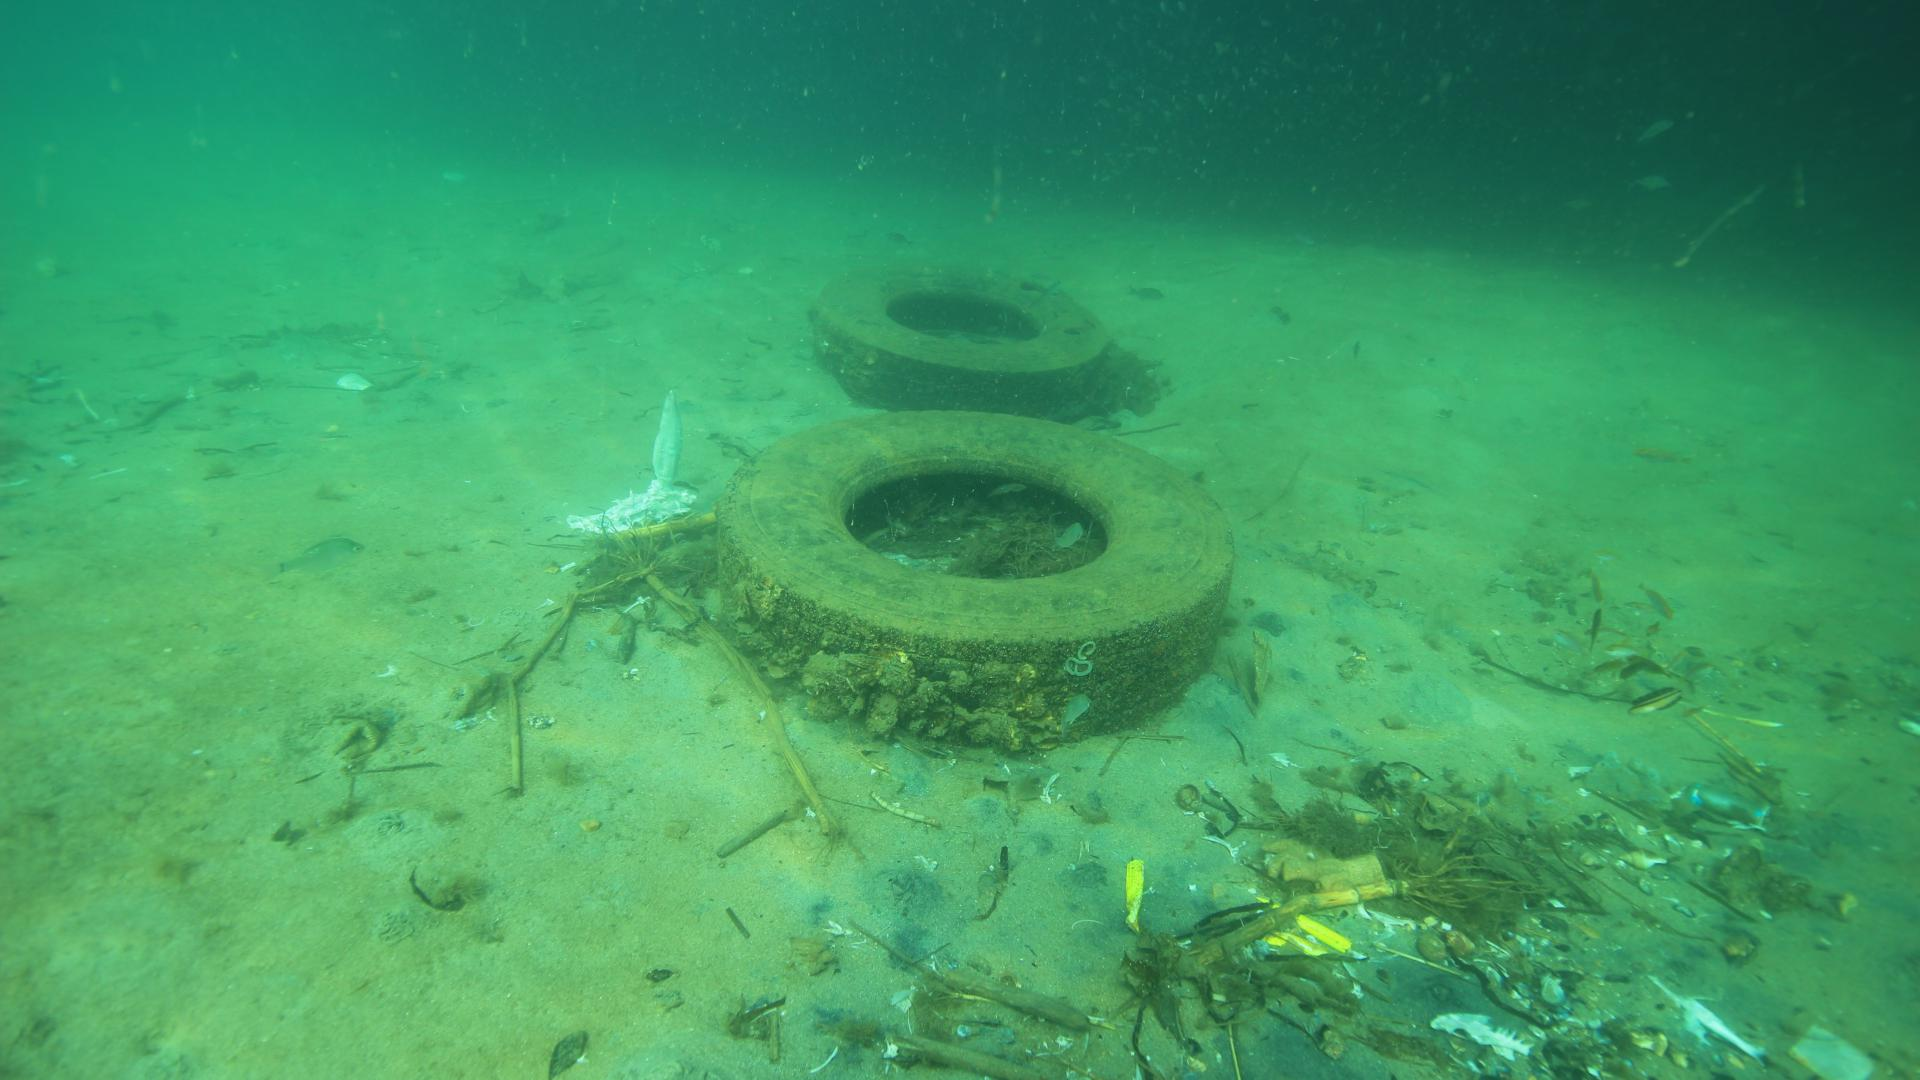tire: (720, 419, 1226, 752), (812, 264, 1112, 417)
